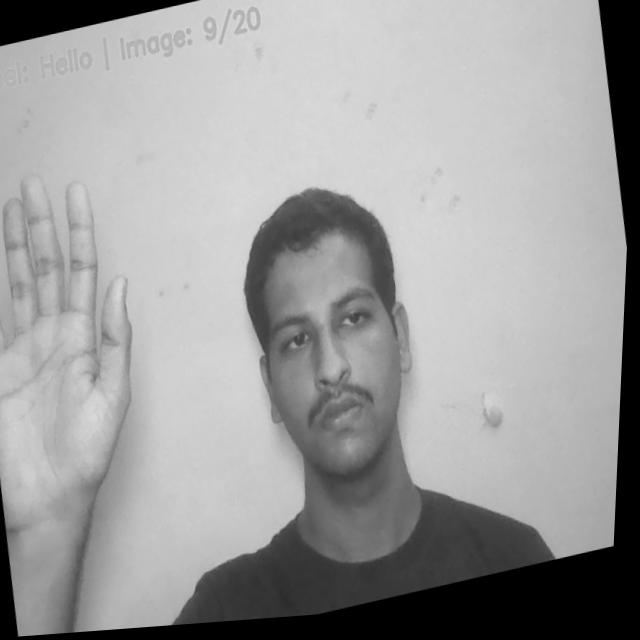Hello: (0, 151, 172, 550)
